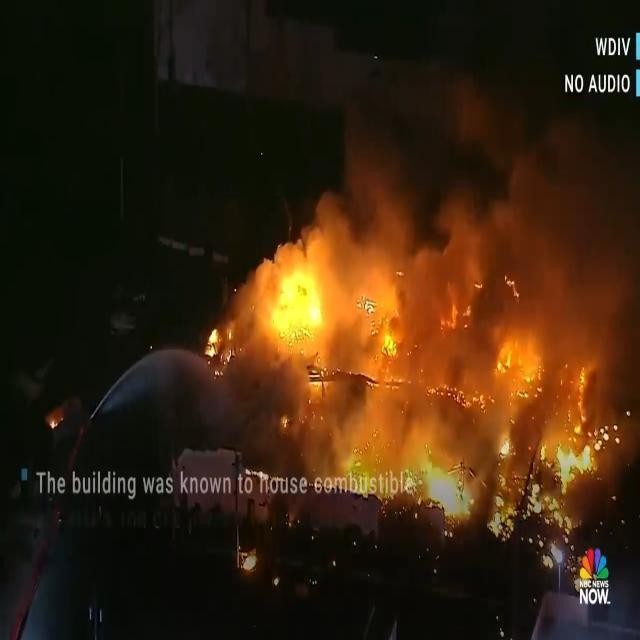fire: (430, 287, 574, 412), (278, 255, 422, 374), (397, 406, 491, 518), (314, 387, 400, 477), (578, 284, 624, 404), (532, 419, 600, 478)
